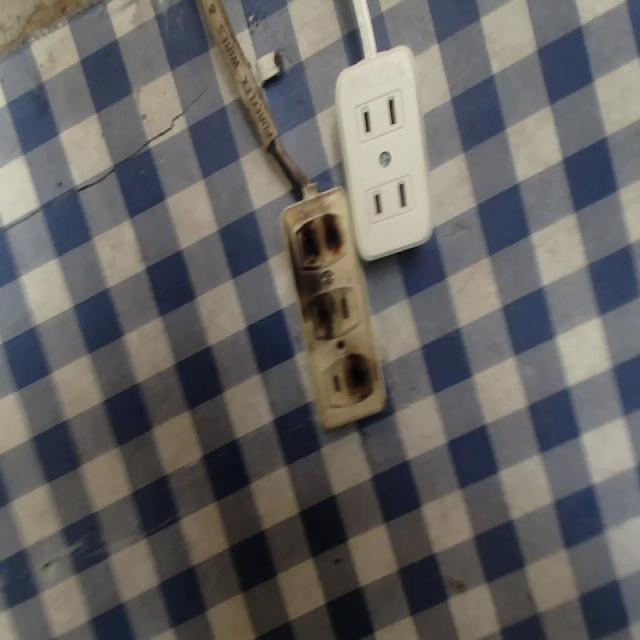-: (286, 208, 352, 272), (296, 288, 342, 348), (339, 352, 376, 401)
